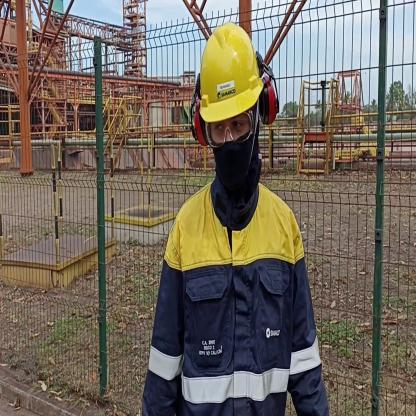Balaclava: (210, 116, 262, 203)
C_eletrica: (160, 187, 321, 416)
Capacete: (196, 22, 267, 110)
